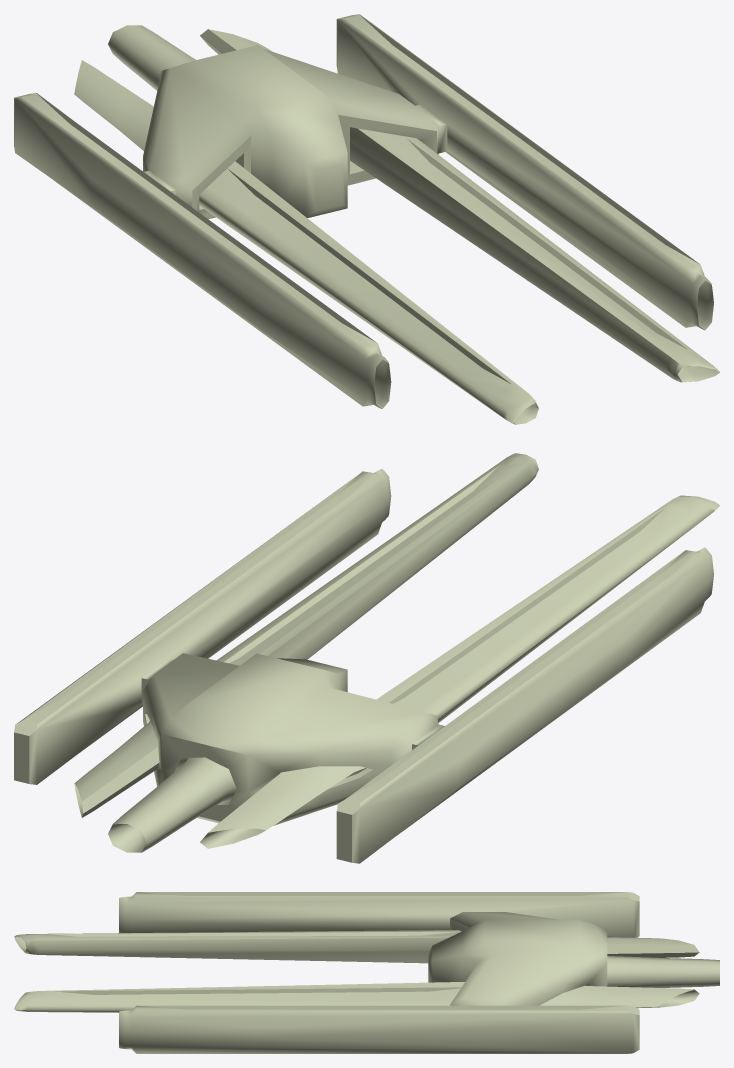
Rendered from interceptor.obj.
3 views of the same model, one above another, from view 1: azimuth 30°, elevation 25°; view 2: azimuth 150°, elevation 25°; view 3: azimuth 270°, elevation 25° (orthographic). The views are drawn at different scales.
Parts seen in each view (by area): view 1: Cube1; view 2: Cube1; view 3: Cube1.
Boxes of the visible parts, bbox=[...] form: Cube1: bbox=[14, 14, 719, 424]; Cube1: bbox=[14, 453, 719, 863]; Cube1: bbox=[14, 892, 719, 1053].
Size of the model in its own units: 0.2521 by 0.0754 by 0.5833.
